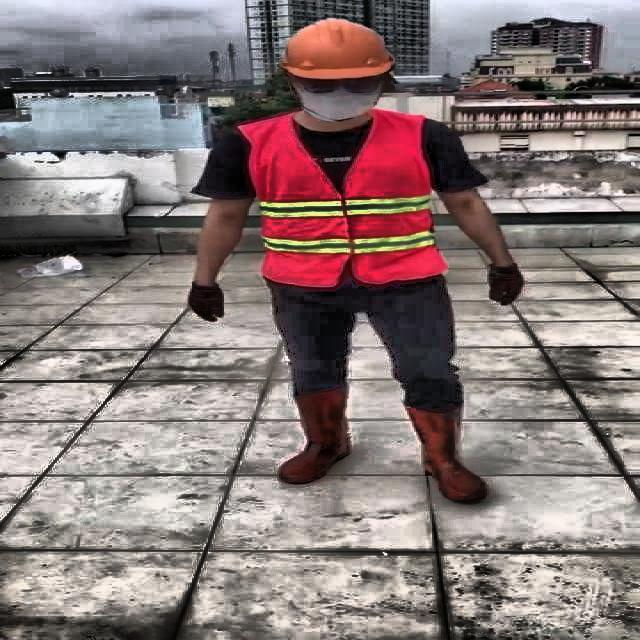safety_helmet: (273, 19, 396, 82)
safety_jacket: (238, 112, 443, 283)
